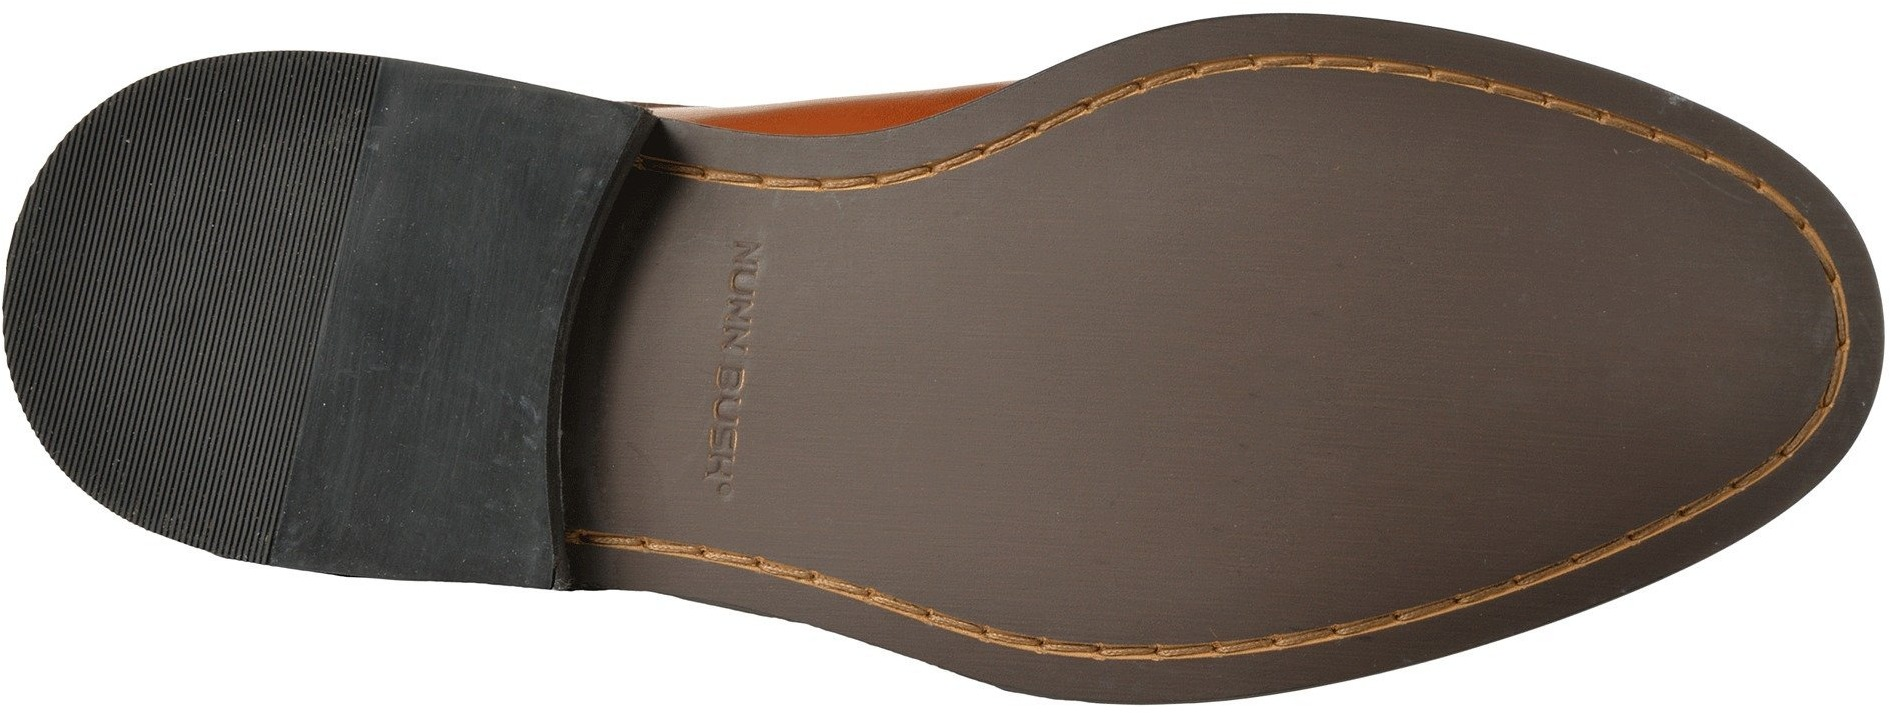exclude: (541, 41, 1014, 712)
other: (1014, 153, 1332, 462), (1344, 201, 1638, 520), (34, 184, 289, 443), (358, 132, 565, 348), (329, 363, 532, 560), (1649, 240, 1815, 412), (1041, 477, 1216, 634)
